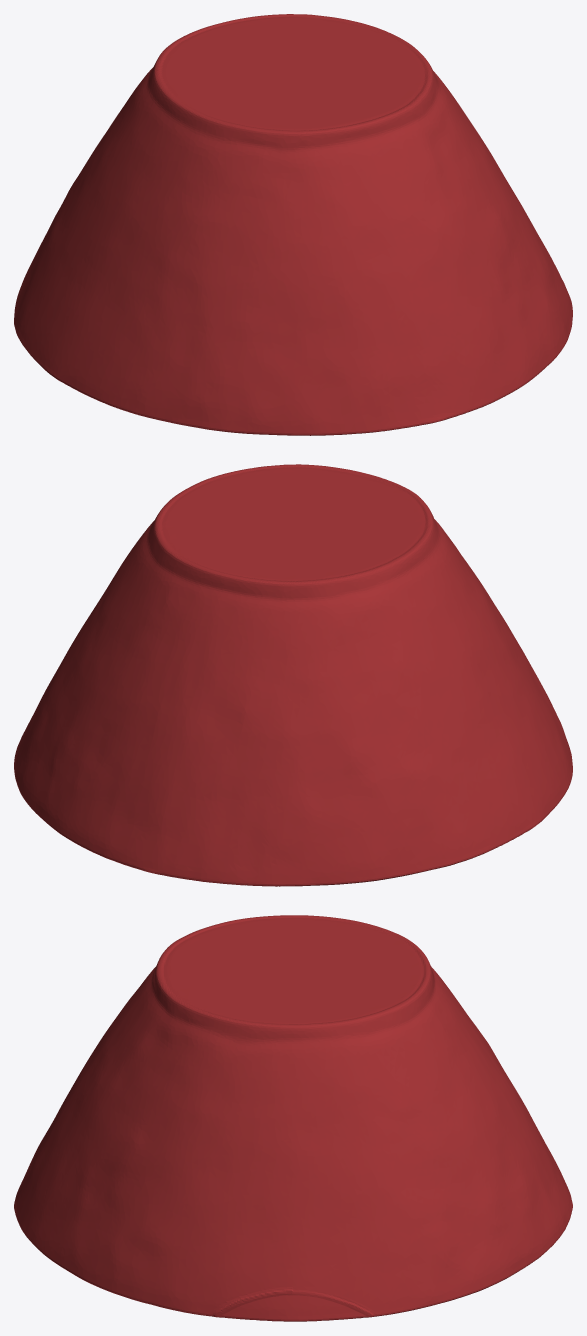
File: skirt.glb
The picture shows the model from 3 angles, top to bottom: view 1: azimuth 30°, elevation 25°; view 2: azimuth 150°, elevation 25°; view 3: azimuth 270°, elevation 25°; orthographic projection. The views are drawn at different scales.
Visible parts, largest first — view 1: geometry_0; view 2: geometry_0; view 3: geometry_0.
Boxes of the visible parts, box(x1,y1,x2,y2) form: geometry_0: box(14, 14, 572, 435); geometry_0: box(14, 464, 572, 886); geometry_0: box(14, 915, 572, 1321).
Bounding box in the file's own units: 0.6079 × 0.2941 × 0.6263.
